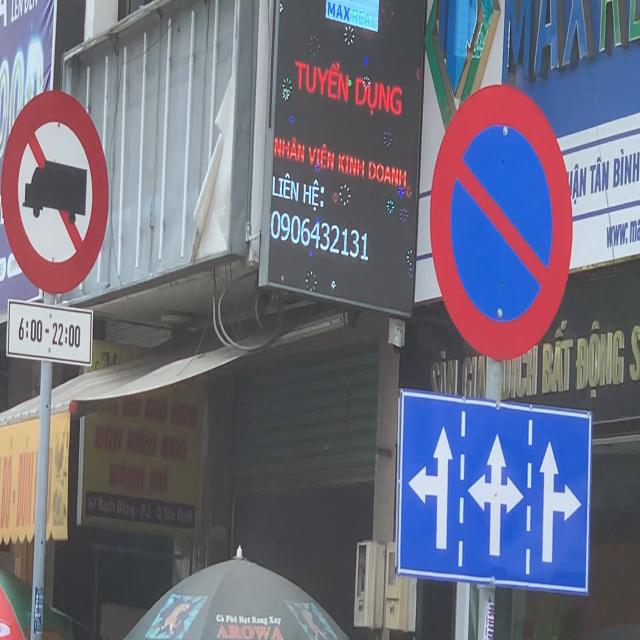Cam con lai: (0, 87, 111, 298)
Cam do: (427, 82, 575, 364)
